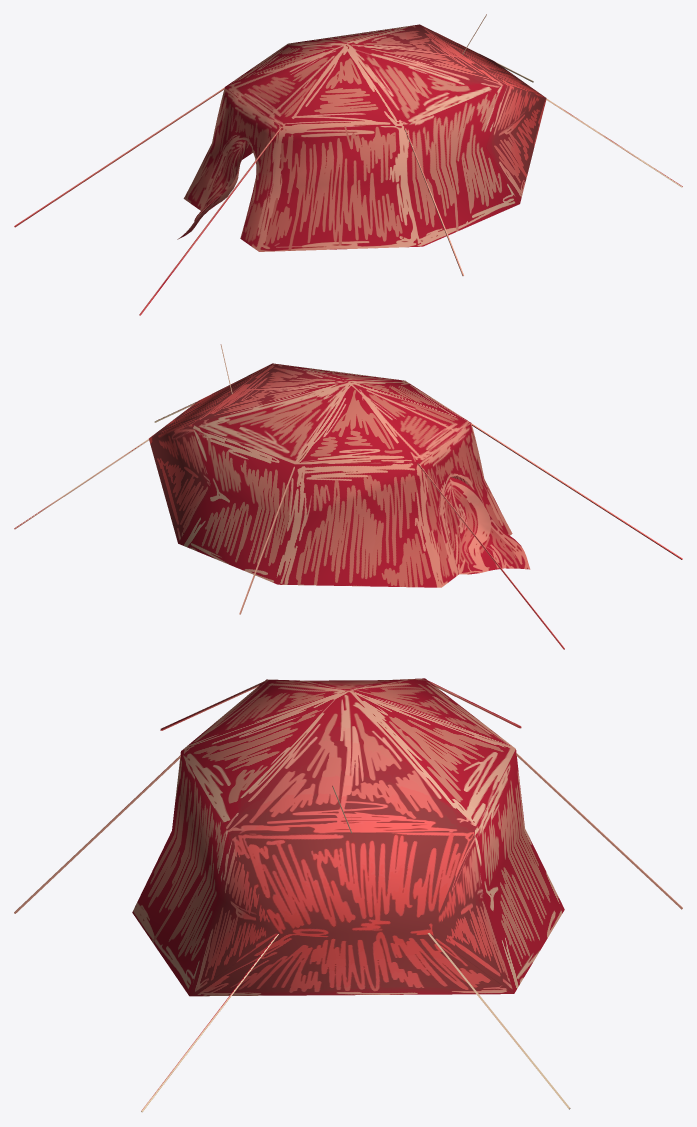
Rendered from tent1_2024.glb.
3 renders of one model, top to bottom at view 1: azimuth 30°, elevation 25°; view 2: azimuth 150°, elevation 25°; view 3: azimuth 270°, elevation 25°, orthographic. The views are drawn at different scales.
Parts seen in each view (by area): view 1: tent1_2024; view 2: tent1_2024; view 3: tent1_2024.
Part boxes in pixels (bbox=[...]): tent1_2024: bbox=[14, 14, 682, 315]; tent1_2024: bbox=[14, 344, 682, 649]; tent1_2024: bbox=[14, 678, 682, 1112].
Bounding box in the file's own units: 12.27 × 3.48 × 8.94.
Materials: 1 (1 with a texture image).
